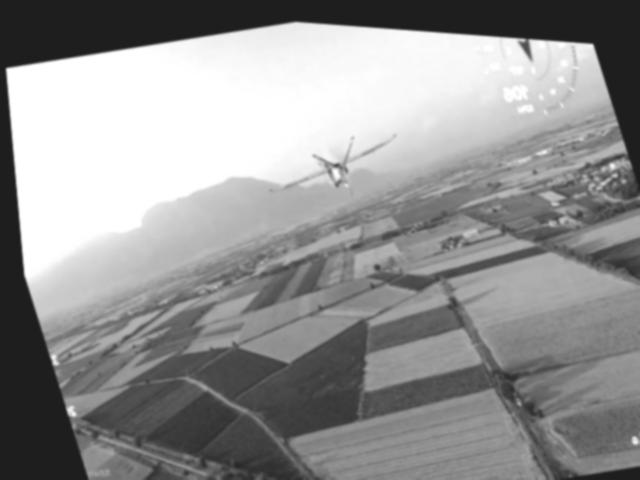hedef: (241, 93, 418, 219)
